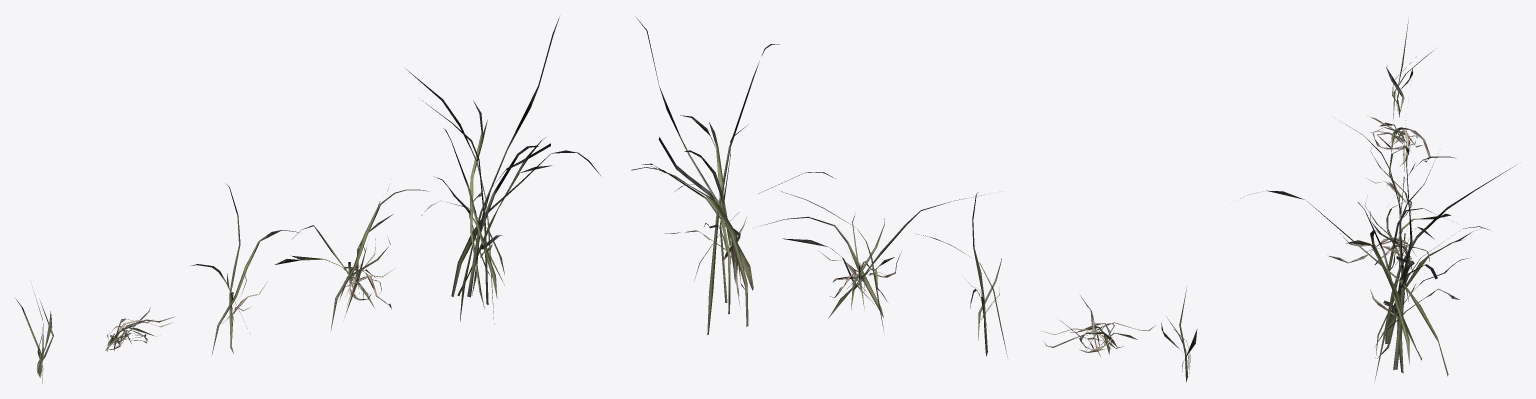
The model's file is herbes_hautes_lod2.glb.
3 views of the same model, side by side, from view 1: azimuth 30°, elevation 25°; view 2: azimuth 150°, elevation 25°; view 3: azimuth 270°, elevation 25° (orthographic). The views are drawn at different scales.
Visible parts, largest first — view 1: grass_medium_02_a; view 2: grass_medium_02_a; view 3: grass_medium_02_a.
Boxes of the visible parts, left/top/right/bottom form: grass_medium_02_a: left=15, top=17, right=600, bottom=383; grass_medium_02_a: left=631, top=16, right=1197, bottom=382; grass_medium_02_a: left=1240, top=17, right=1515, bottom=381.
Size of the model in its own units: 1.34 by 0.6727 by 0.6378.
Materials: 1 (1 with a texture image).
